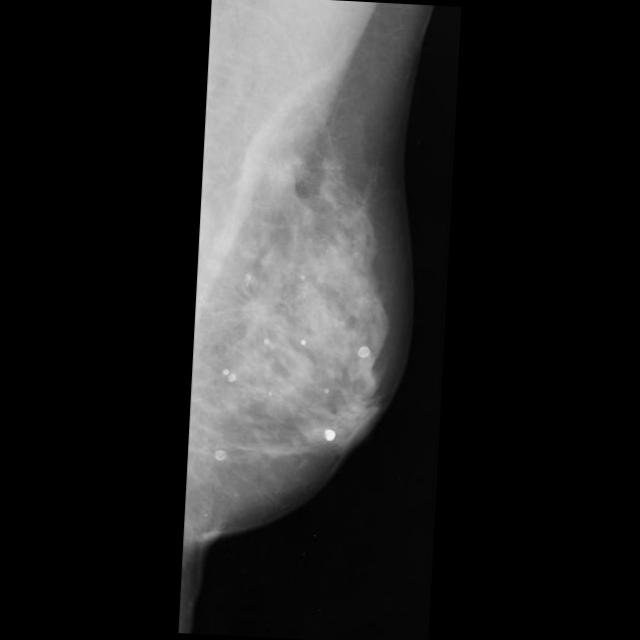SPIC: (222, 278, 283, 340)
